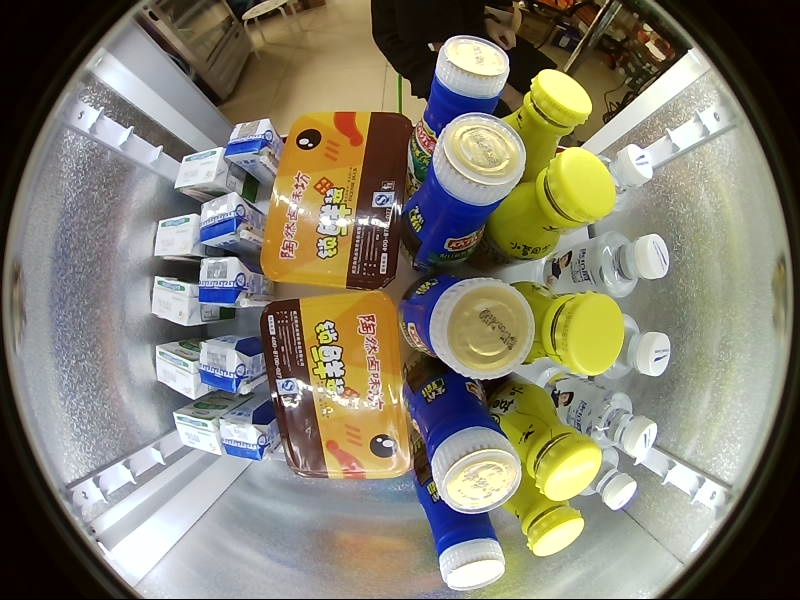ops-m063: (494, 355, 656, 496), (508, 149, 675, 281), (504, 65, 635, 212), (492, 419, 619, 566), (511, 285, 679, 383), (593, 189, 738, 283), (585, 368, 718, 462), (588, 284, 740, 355), (573, 106, 695, 194), (588, 436, 686, 533), (110, 232, 205, 306), (130, 387, 212, 461), (112, 311, 181, 383), (133, 143, 211, 204), (156, 467, 202, 526)
ops-m083: (165, 282, 312, 409), (108, 169, 268, 277), (159, 188, 291, 311), (187, 384, 306, 505), (191, 99, 294, 218), (208, 446, 306, 568), (613, 248, 745, 338), (100, 333, 262, 403), (610, 355, 735, 437), (620, 172, 726, 264), (98, 244, 202, 330), (629, 408, 707, 506), (115, 384, 204, 467), (601, 100, 704, 165), (148, 454, 222, 530)
ops-m102: (467, 146, 618, 274), (409, 129, 536, 270), (403, 48, 515, 195), (490, 375, 606, 504), (389, 295, 504, 424), (387, 393, 494, 524), (554, 364, 681, 464), (514, 277, 627, 379), (496, 64, 595, 179), (544, 225, 702, 282), (100, 190, 216, 263), (128, 410, 215, 498), (95, 275, 204, 343), (99, 342, 191, 421), (597, 313, 697, 381), (125, 114, 219, 185), (564, 463, 650, 522), (424, 515, 502, 580), (507, 497, 587, 557), (624, 131, 679, 195)
ops-m103: (480, 349, 631, 485), (496, 165, 651, 281), (479, 44, 588, 202), (484, 411, 602, 551), (484, 281, 661, 365), (580, 375, 703, 477), (572, 104, 686, 206), (581, 184, 718, 261), (580, 324, 729, 393), (581, 259, 728, 325)
ops-m104: (230, 140, 309, 217), (335, 121, 405, 202), (317, 270, 388, 346), (220, 281, 301, 346), (314, 346, 388, 417), (330, 182, 397, 260), (228, 352, 293, 424), (305, 412, 374, 472), (225, 206, 285, 269), (241, 424, 296, 483)
ops-m129: (254, 326, 329, 393), (268, 180, 339, 248), (264, 244, 343, 305), (274, 119, 344, 187), (369, 315, 441, 380), (218, 391, 283, 461), (257, 383, 325, 447), (199, 330, 269, 392), (371, 380, 434, 446), (223, 119, 285, 186), (198, 192, 267, 251), (368, 163, 431, 225), (169, 382, 229, 442), (180, 135, 239, 193), (165, 190, 223, 247), (369, 109, 428, 165), (157, 333, 219, 386)
ops-m135: (173, 353, 334, 465), (171, 164, 320, 276), (124, 187, 279, 284), (213, 74, 329, 203), (205, 409, 318, 540), (156, 265, 314, 358), (123, 332, 275, 425), (277, 314, 397, 429), (293, 78, 400, 203), (292, 203, 410, 314), (115, 263, 269, 348), (297, 411, 396, 530), (156, 105, 254, 210), (147, 416, 265, 492), (287, 506, 379, 579)
ops-m137: (502, 186, 633, 286), (500, 92, 610, 205), (500, 372, 615, 477), (500, 295, 632, 384), (398, 365, 490, 490), (558, 147, 671, 245), (419, 168, 512, 283), (425, 80, 514, 192), (409, 279, 511, 376), (495, 440, 592, 541), (546, 424, 647, 518), (560, 247, 689, 317), (567, 314, 690, 387), (407, 462, 488, 559), (559, 387, 669, 457)
ops-m141: (421, 297, 485, 365), (431, 221, 495, 286), (414, 362, 480, 420), (542, 229, 593, 291), (528, 391, 582, 448), (430, 418, 490, 464), (532, 343, 580, 395), (536, 287, 581, 340)
ops-m147: (346, 161, 424, 254), (322, 254, 409, 337), (329, 339, 414, 417), (465, 233, 547, 312), (327, 416, 405, 497), (456, 313, 535, 390), (471, 160, 546, 233), (450, 393, 536, 456), (347, 98, 422, 161), (472, 102, 547, 160)
ops-m148: (131, 93, 264, 217), (531, 87, 677, 194), (560, 355, 704, 460), (547, 191, 716, 280), (124, 389, 254, 493), (100, 166, 239, 261), (88, 247, 241, 331), (94, 326, 232, 417), (599, 277, 722, 370), (610, 447, 688, 520)
ops-m149: (282, 126, 370, 205), (275, 374, 367, 448), (270, 176, 364, 248), (268, 317, 366, 379), (536, 148, 624, 216), (267, 237, 365, 296), (549, 354, 628, 421), (174, 146, 260, 206), (546, 413, 618, 484), (171, 394, 246, 456), (210, 138, 278, 206), (548, 300, 640, 350), (150, 274, 236, 327), (194, 336, 265, 396), (155, 339, 220, 401), (200, 259, 279, 309), (201, 207, 270, 259), (567, 205, 637, 256), (198, 391, 261, 436), (152, 212, 209, 261)
ops-m150: (242, 148, 340, 221), (175, 344, 272, 410), (227, 224, 329, 279), (226, 379, 321, 431), (227, 286, 319, 337), (178, 152, 251, 215), (235, 333, 318, 384), (166, 290, 227, 336), (194, 419, 252, 467), (169, 226, 228, 272)
ops-m151: (313, 377, 398, 455), (483, 348, 584, 413), (480, 420, 564, 497), (415, 385, 495, 462), (320, 237, 410, 302), (419, 311, 507, 376), (476, 286, 572, 344), (314, 310, 404, 370), (487, 219, 580, 273), (424, 205, 507, 265), (315, 442, 388, 499), (421, 461, 494, 509)
ops-m152: (478, 147, 645, 277), (399, 112, 529, 274), (475, 64, 619, 209), (453, 410, 580, 574), (269, 347, 401, 504), (282, 110, 407, 275), (472, 357, 625, 484), (319, 22, 413, 196), (402, 35, 511, 184), (404, 383, 522, 518), (406, 436, 507, 592), (242, 266, 394, 368), (321, 420, 408, 593), (480, 274, 661, 357), (548, 404, 670, 525), (397, 278, 536, 382), (566, 132, 700, 230), (560, 367, 699, 454), (579, 215, 712, 297), (569, 296, 715, 367)
ops-m154: (473, 212, 598, 298), (154, 333, 268, 421), (479, 321, 574, 422), (163, 163, 269, 253), (322, 91, 406, 204), (311, 186, 404, 287), (236, 160, 339, 250), (543, 226, 668, 300), (217, 350, 321, 436), (152, 252, 265, 331), (312, 364, 402, 463), (549, 381, 661, 458), (475, 408, 568, 500), (186, 390, 269, 493), (303, 288, 404, 372), (407, 173, 488, 277), (189, 84, 279, 176), (241, 108, 336, 195), (224, 252, 336, 325), (242, 416, 323, 513), (308, 447, 389, 543), (398, 285, 486, 369), (397, 370, 481, 458), (504, 93, 580, 190), (397, 103, 476, 192), (390, 438, 462, 533), (138, 119, 217, 196), (114, 256, 200, 325), (113, 333, 193, 405), (117, 192, 199, 261), (495, 475, 562, 547), (135, 396, 197, 468), (613, 313, 674, 379), (587, 448, 638, 515), (598, 140, 655, 198)
ops-m155: (321, 300, 476, 490), (259, 288, 412, 480), (258, 109, 412, 291), (329, 115, 477, 301), (430, 300, 566, 486), (444, 121, 576, 304), (213, 116, 333, 285), (202, 299, 317, 474)
ops-m156: (402, 194, 470, 258), (401, 268, 467, 332), (294, 138, 347, 215), (384, 331, 447, 394), (274, 311, 333, 374), (283, 226, 336, 290), (415, 135, 472, 194), (288, 380, 345, 436), (391, 394, 445, 441), (296, 438, 339, 487)
